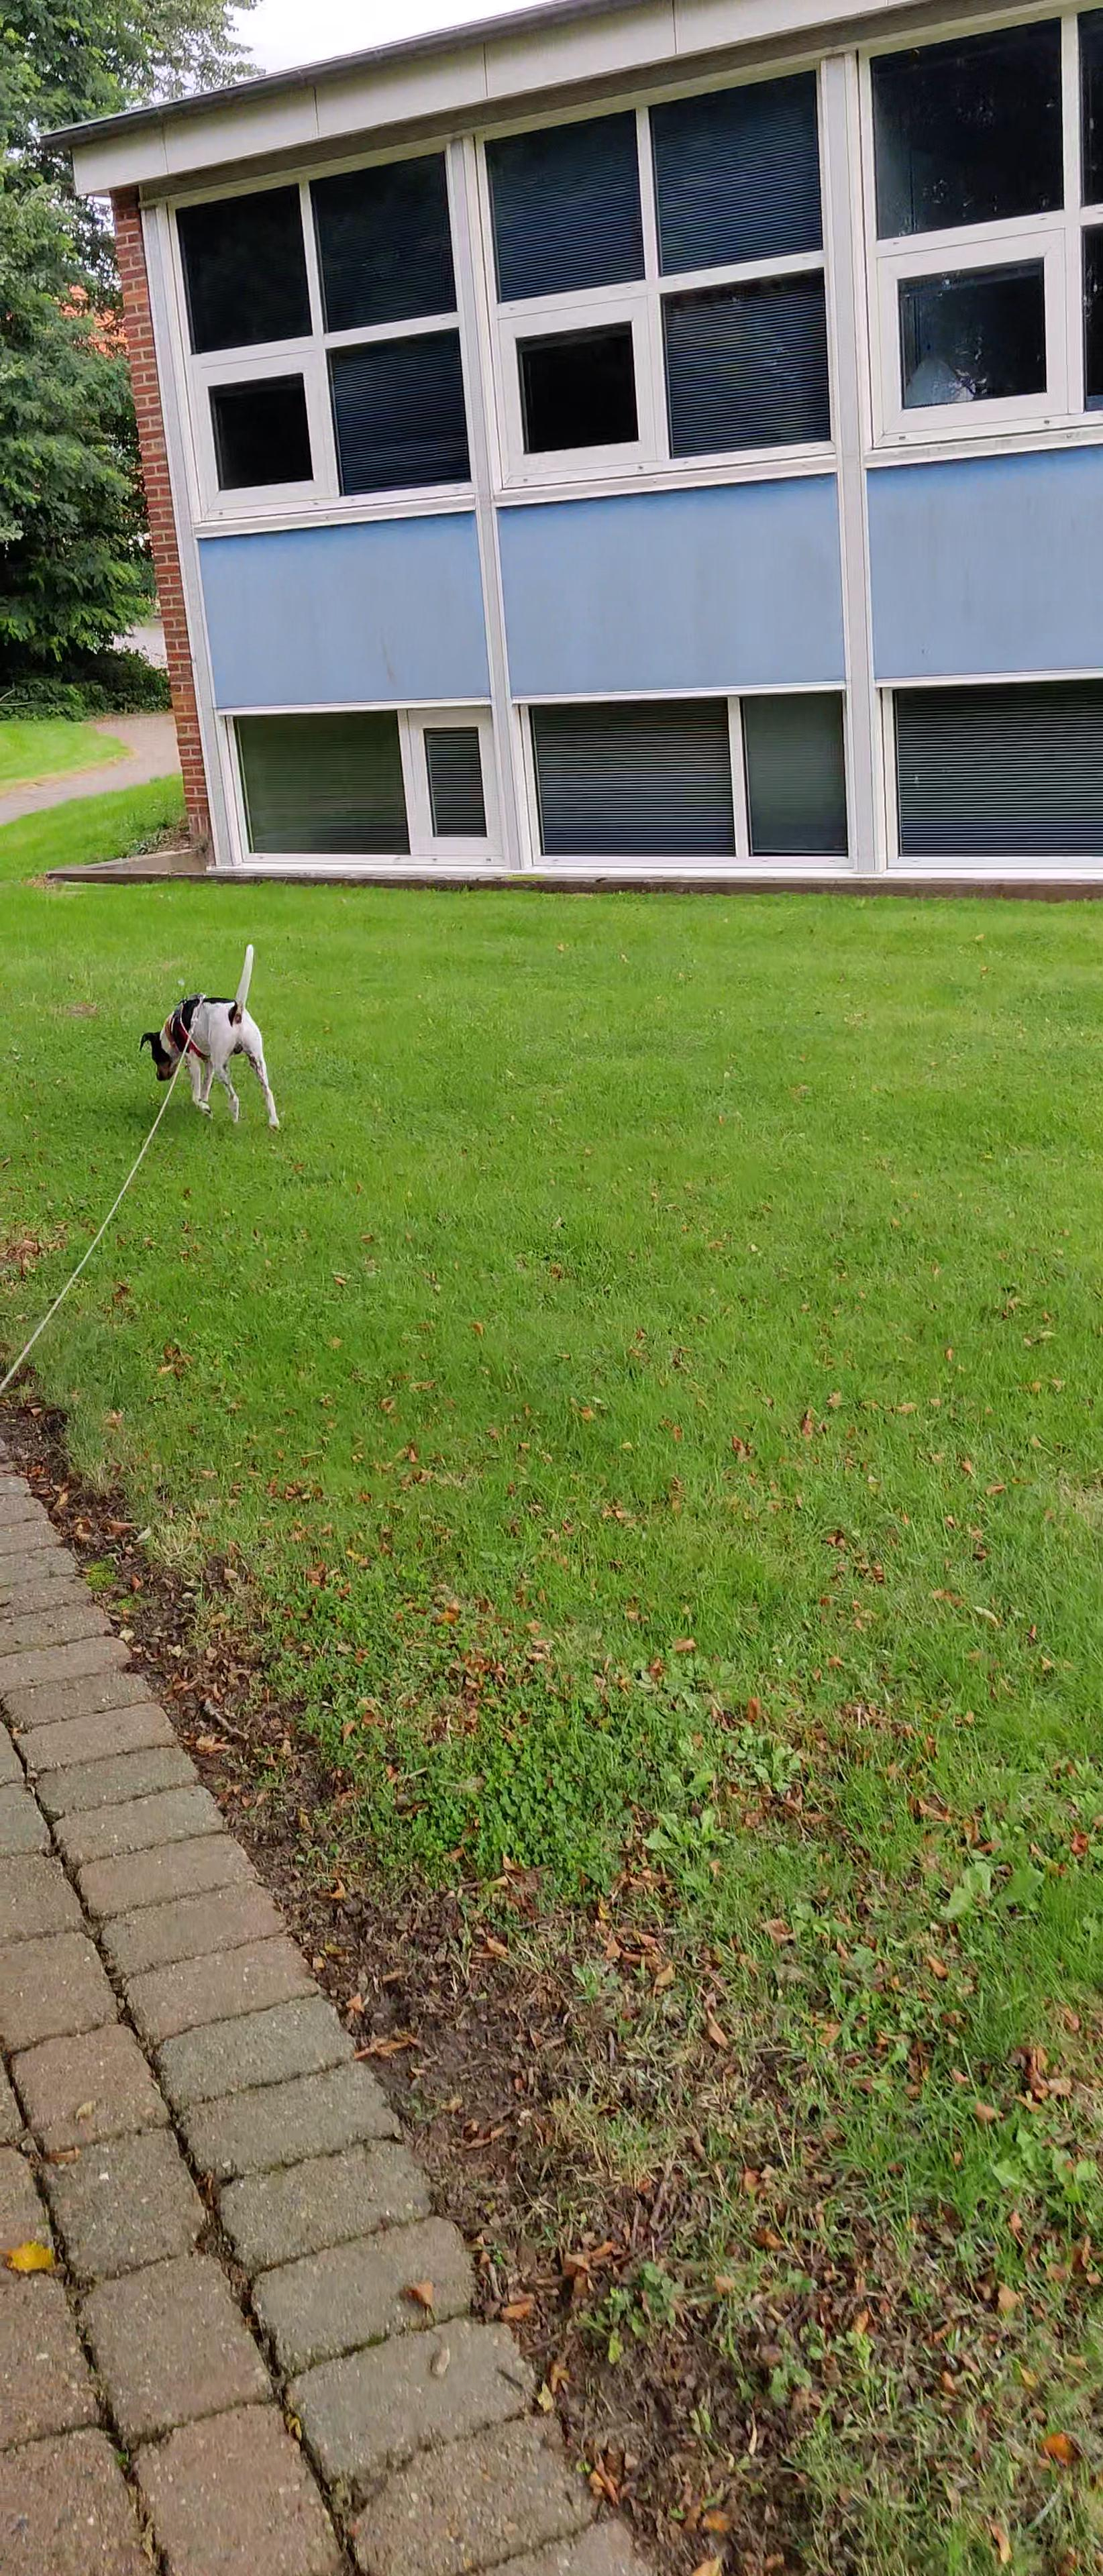Dog: (123, 927, 298, 1145)
